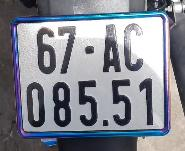0: (26, 79, 48, 129)
1: (139, 77, 156, 125)
5: (110, 78, 137, 128), (77, 79, 100, 129)
6: (36, 26, 57, 76)
7: (58, 25, 78, 76)
8: (52, 80, 72, 128)
A: (102, 23, 122, 74)
C: (124, 23, 146, 74)
